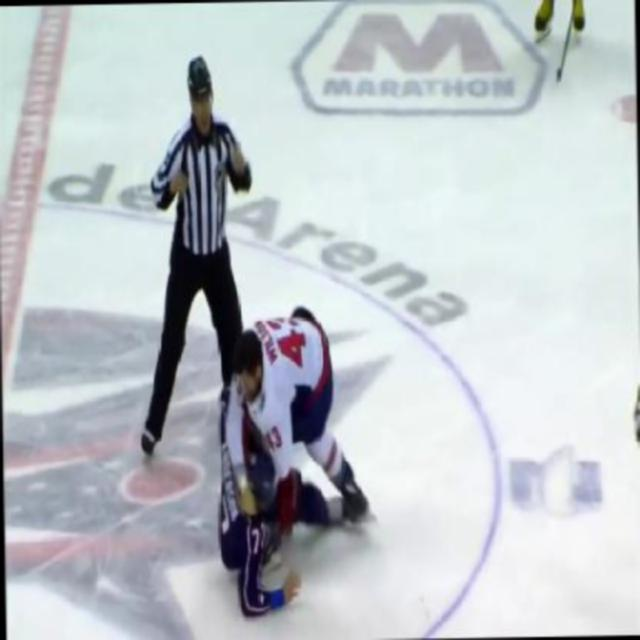fight: (212, 296, 380, 609)
non-fight: (150, 50, 258, 308)
